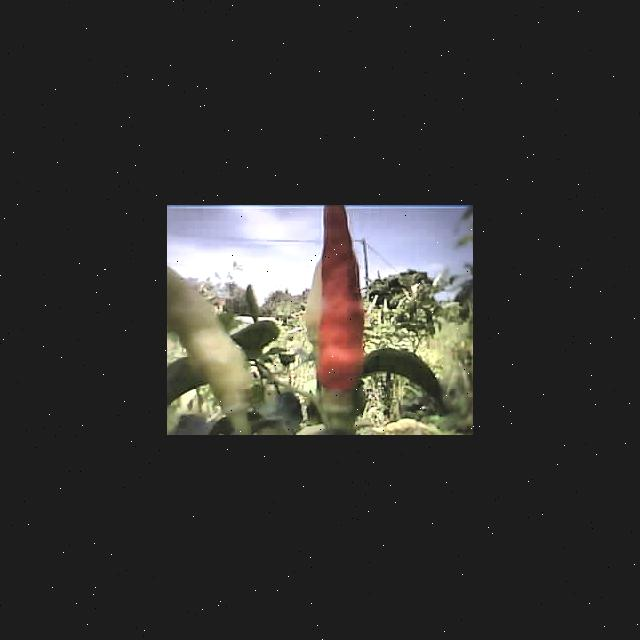Cabai: (317, 206, 369, 399)
